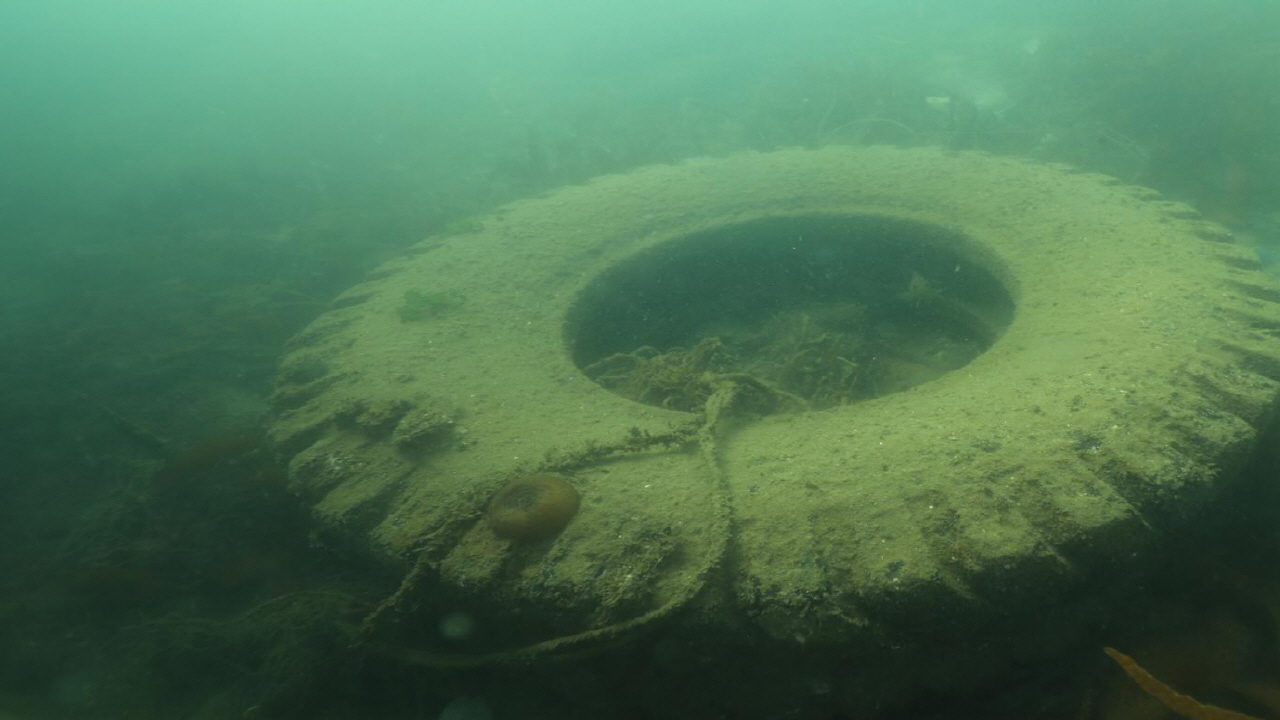bundle of ropes: (332, 390, 736, 670)
tire: (273, 143, 1278, 720)
